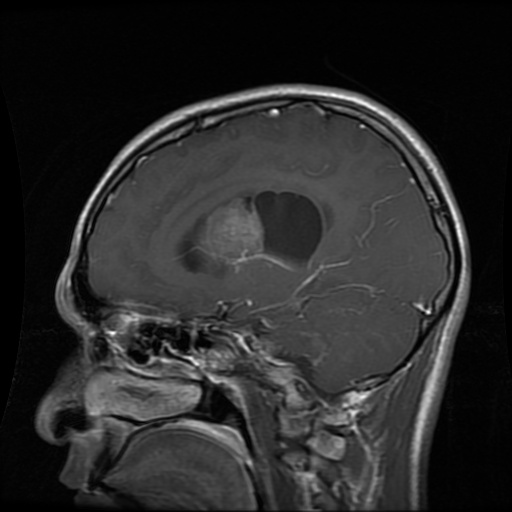glioma: (176, 189, 322, 274)
